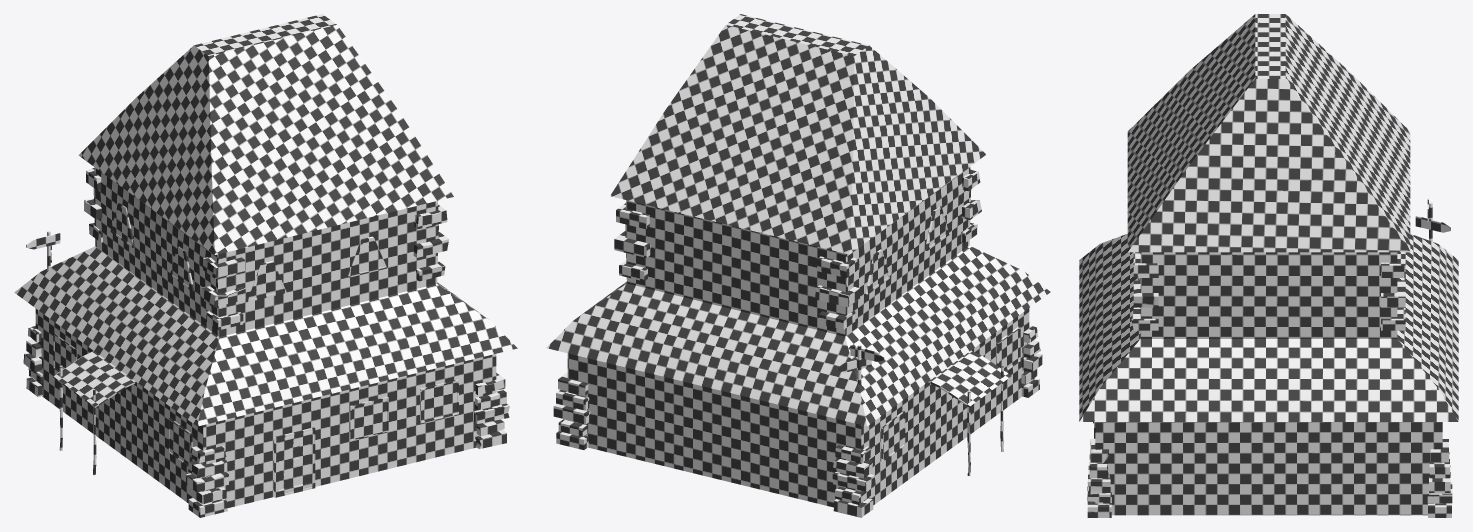
The model's file is House_1.fbx.
3 renders of one model, left to right at view 1: azimuth 30°, elevation 25°; view 2: azimuth 150°, elevation 25°; view 3: azimuth 270°, elevation 25°, orthographic. The views are drawn at different scales.
Parts seen in each view (by area): view 1: House_1; view 2: House_1; view 3: House_1.
Boxes of the visible parts, x1=… form: House_1: x1=14, y1=14, x2=517, y2=517; House_1: x1=546, y1=14, x2=1050, y2=517; House_1: x1=1079, y1=14, x2=1458, y2=517.
Bounding box in the file's own units: 1240 × 1283 × 1117.
Materials: 1 (1 with a texture image).
